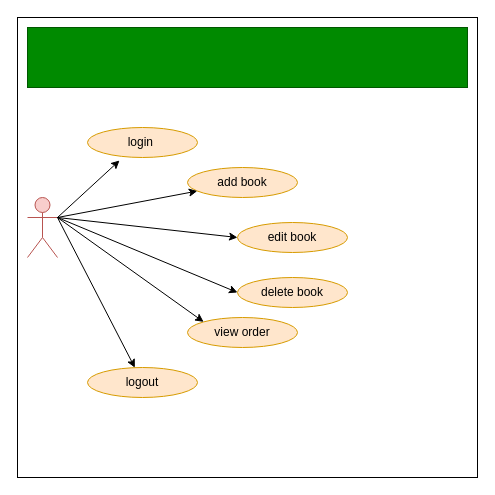
This 495x495 diagram has some shape labels left out. Each missing label, with the centre of its shape:
admin: point (42, 227)
Admin use case diagram: point (247, 57)
